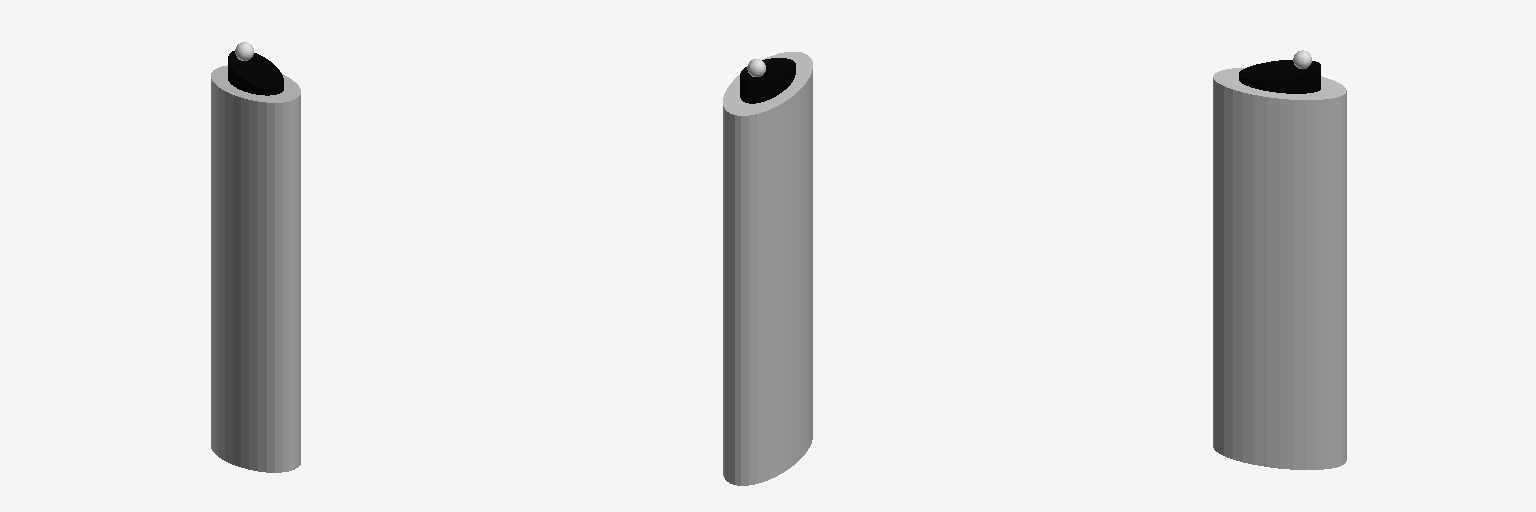
The model's file is shining_sphere_on_a_platform.obj.
3 renders of one model, left to right at view 1: azimuth 30°, elevation 25°; view 2: azimuth 150°, elevation 25°; view 3: azimuth 270°, elevation 25°, orthographic.
Parts seen in each view (by area): view 1: Цилиндр; view 2: Цилиндр; view 3: Цилиндр.
Boxes of the visible parts, x1,y1,x2,y2 form: Цилиндр: [211, 42, 300, 472]; Цилиндр: [723, 52, 812, 485]; Цилиндр: [1213, 50, 1346, 469].
Size of the model in its own units: 3.24 by 20.73 by 6.13.